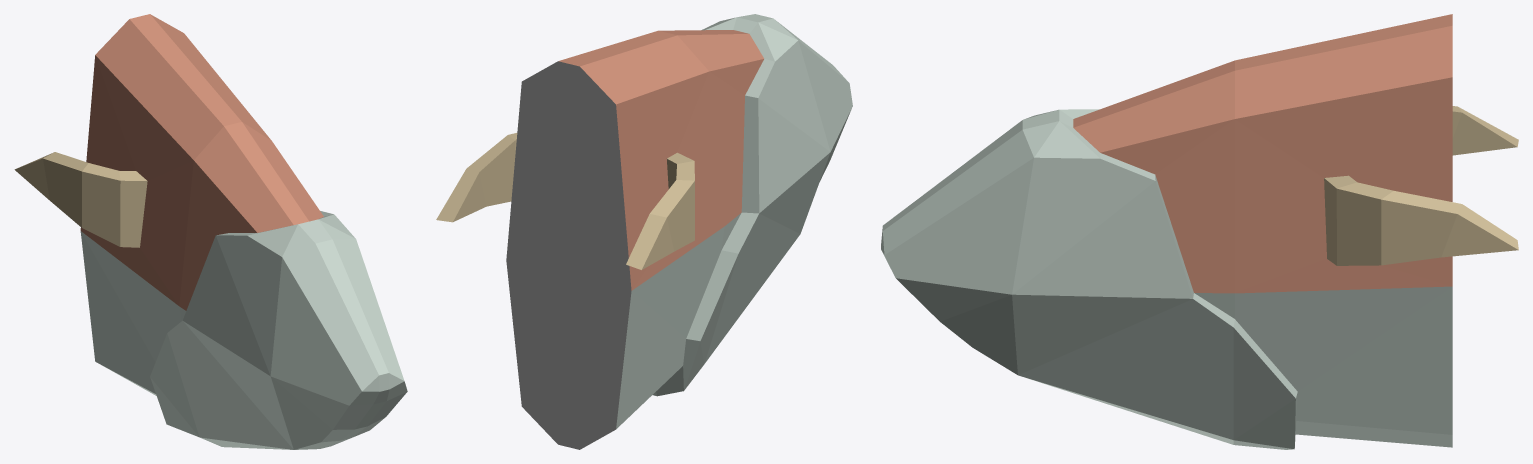
The picture shows the model from 3 angles, left to right: view 1: azimuth 30°, elevation 25°; view 2: azimuth 150°, elevation 25°; view 3: azimuth 270°, elevation 25°; orthographic projection. The views are drawn at different scales.
Parts seen in each view (by area): view 1: Fish; view 2: Fish; view 3: Fish.
Boxes of the visible parts, x1,y1,x2,y2 form: Fish: (14, 14, 407, 449); Fish: (436, 14, 852, 449); Fish: (881, 14, 1518, 449).
Bounding box in the file's own units: 46.14 × 82.53 × 113.
